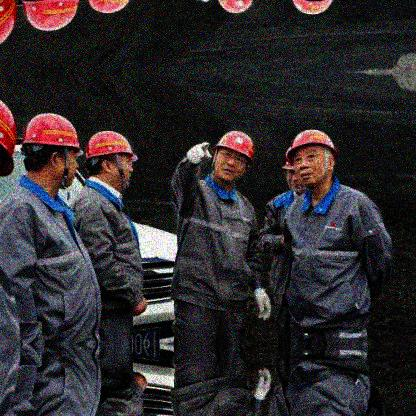helmet: (22, 111, 86, 191), (84, 129, 141, 196), (284, 129, 341, 195), (212, 128, 256, 189), (280, 147, 304, 196)
